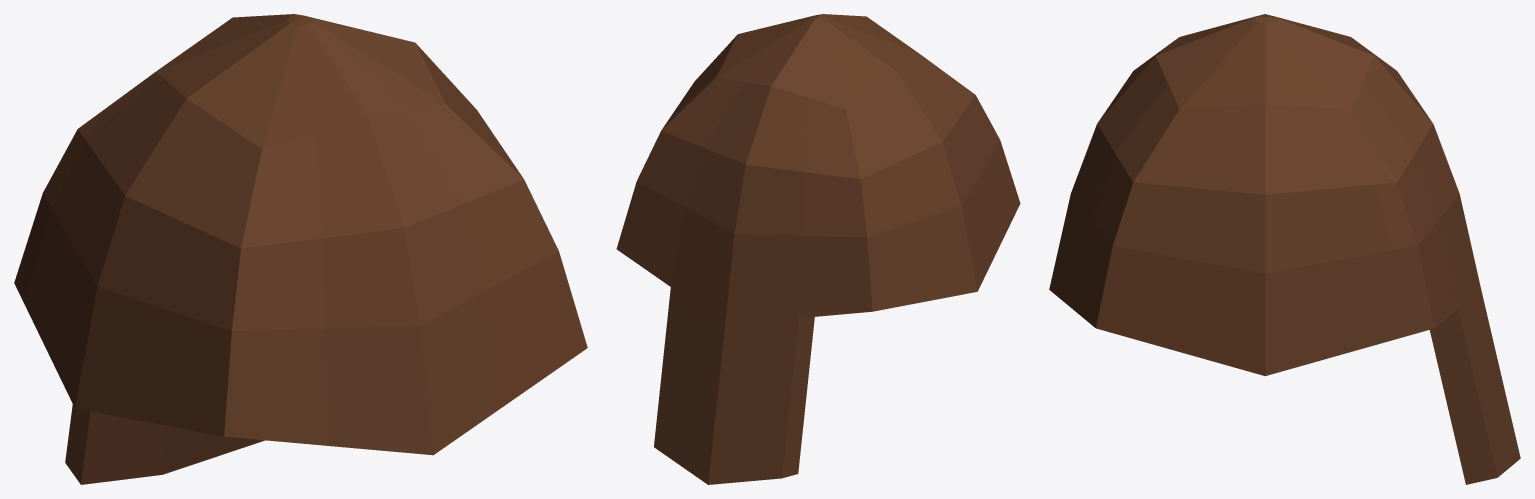
Rendered from basic_helmet.glb.
3 views of the same model, side by side, from view 1: azimuth 30°, elevation 25°; view 2: azimuth 150°, elevation 25°; view 3: azimuth 270°, elevation 25° (orthographic). The views are drawn at different scales.
Parts seen in each view (by area): view 1: Cube; view 2: Cube; view 3: Cube.
Part boxes in pixels (x1,y1,x2,y2): Cube: [14, 14, 587, 484]; Cube: [616, 14, 1020, 484]; Cube: [1049, 14, 1520, 484].
Bounding box in the file's own units: 2.21 × 2.6 × 2.47.
